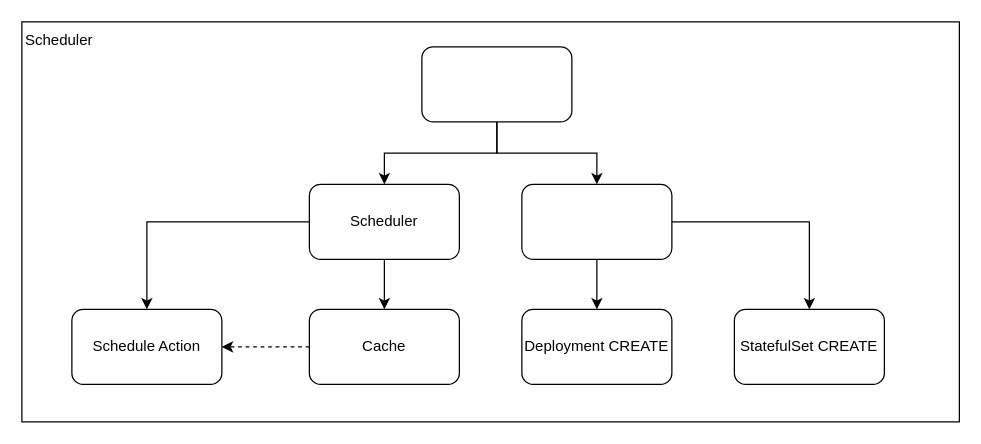
This 981x444 diagram has some shape labels left out. Here are the shapes that lost their labels. From the top down, the centre of each, then its label:
At pixel 496 84: "main.go".
At pixel 596 221: "Mutating Webhook".
